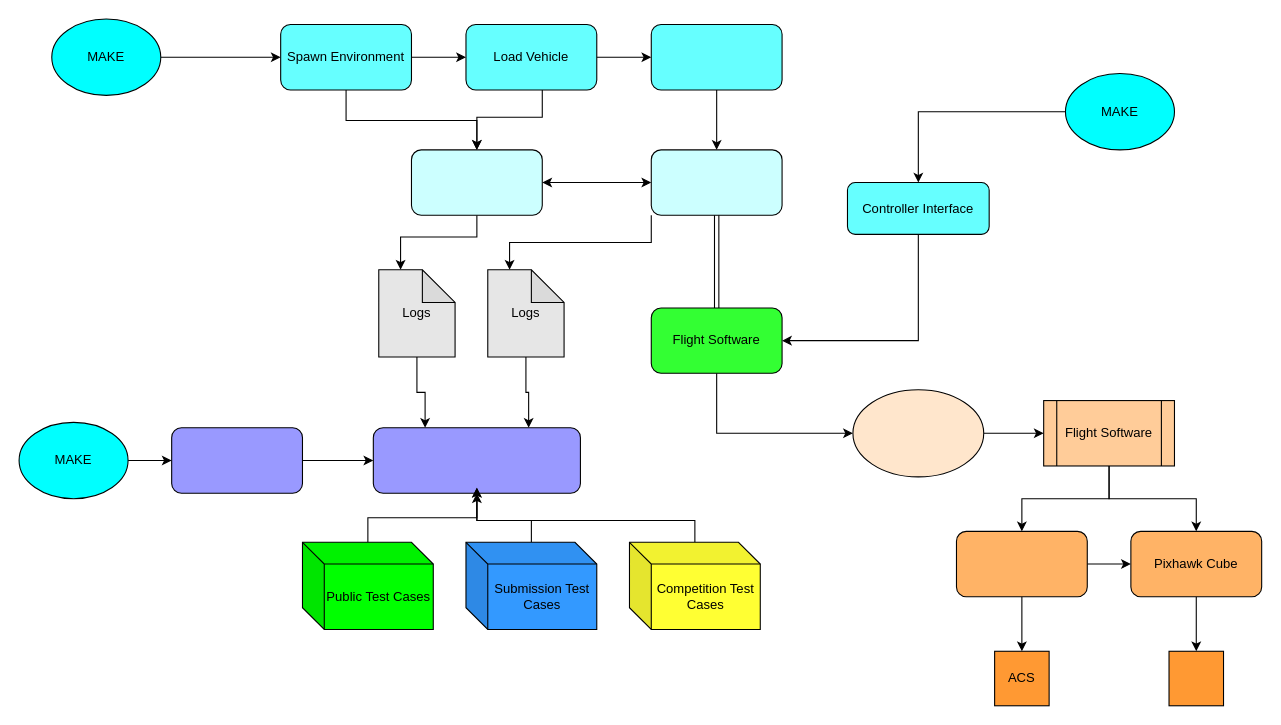
Some shapes in this 1281 by 725 pixel diagram are drawn without their labels. Each missing label, with the centre of its shape:
"BUILD" belongs at [918,433].
"GAZEBO" belongs at [476,182].
"Interface" belongs at [716,56].
"Python Tests" belongs at [236,460].
"Raspberry Pi" belongs at [1021,563].
"ROS / MAVLINK" belongs at [716,182].
"TVC" belongs at [1196,678].
"Validate Logs" belongs at [476,460].
